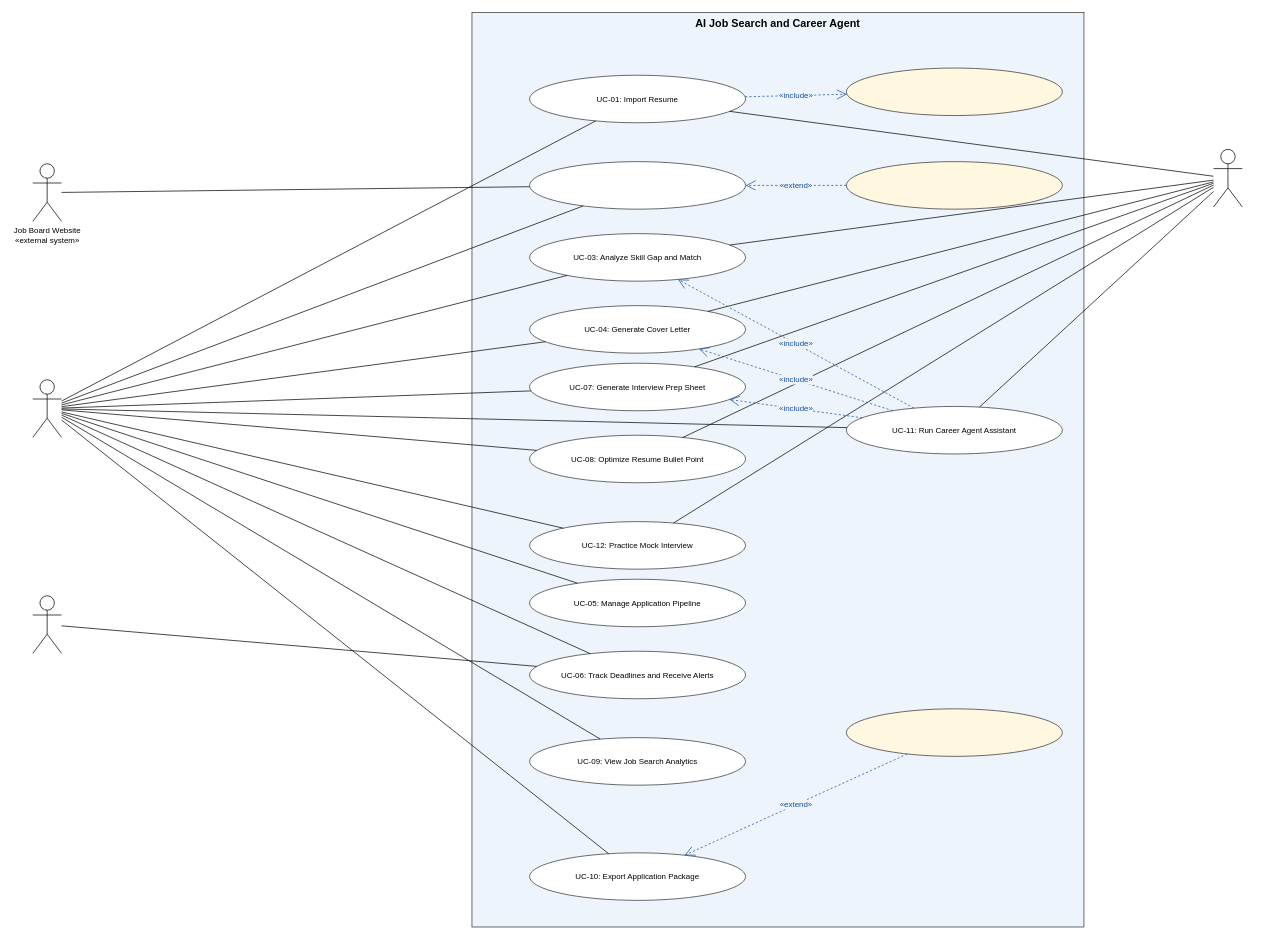
The diagram is 1277 pixels wide and 940 high, and some of its shapes have lost their labels. The shapes that lost their labels are listed below. From the top down, each one's centre as x and y in pixels, then its label:
At point 954,91: "Parse PDF Text".
At point 637,185: "UC-02: Import Job Posting".
At point 954,185: "Enter Job Text Manually".
At point 1227,178: "Gemini AI API «external AI service»".
At point 47,408: "Job Seeker".
At point 47,624: "Deadline Scheduler «system»".
At point 954,732: "Export Plain Text Copy".
